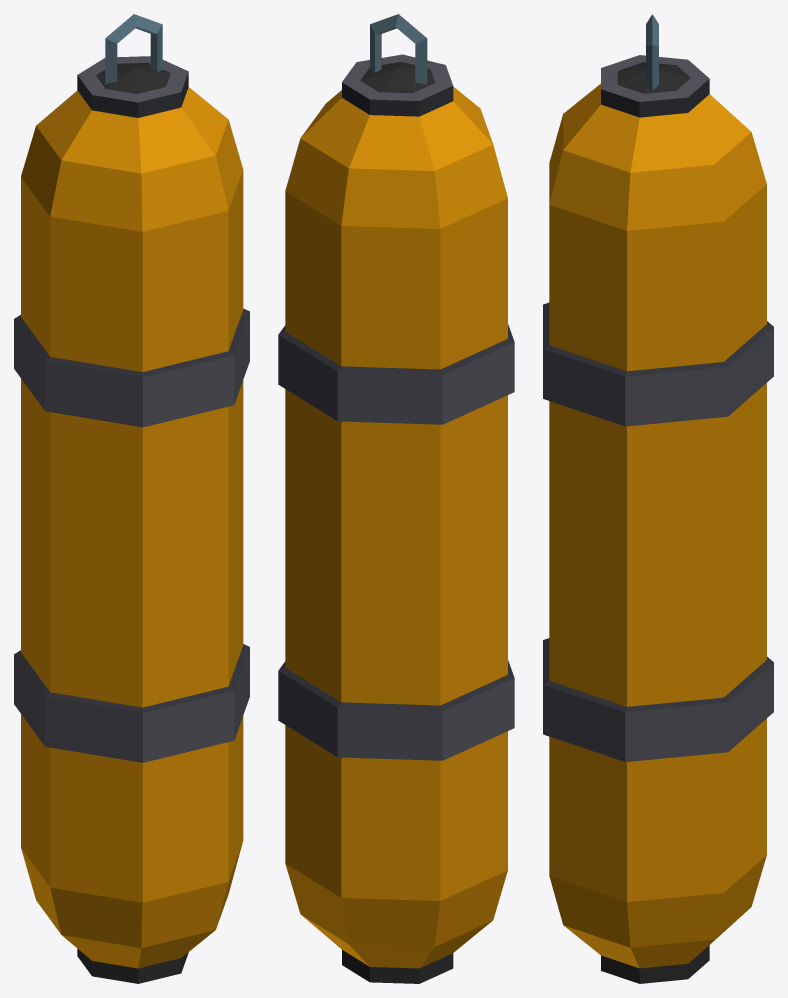
Rendered from OxygenTube_01.glb.
The picture shows the model from 3 angles, left to right: view 1: azimuth 30°, elevation 25°; view 2: azimuth 150°, elevation 25°; view 3: azimuth 270°, elevation 25°; orthographic projection.
Visible parts, largest first — view 1: OxygenTube_01; view 2: OxygenTube_01; view 3: OxygenTube_01.
Part boxes in pixels (left/top/right/bottom): OxygenTube_01: left=14, top=14, right=249, bottom=983; OxygenTube_01: left=278, top=14, right=514, bottom=983; OxygenTube_01: left=543, top=14, right=773, bottom=983.
Size of what is drawn, in the model's own units: 0.1551 by 0.691 by 0.1512.
Materials: 1 (1 with a texture image).
